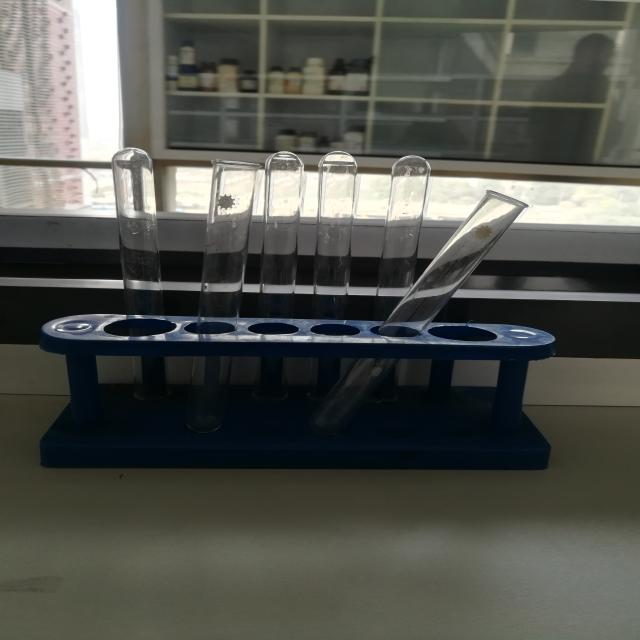Test_Tube: (71, 97, 552, 453)
